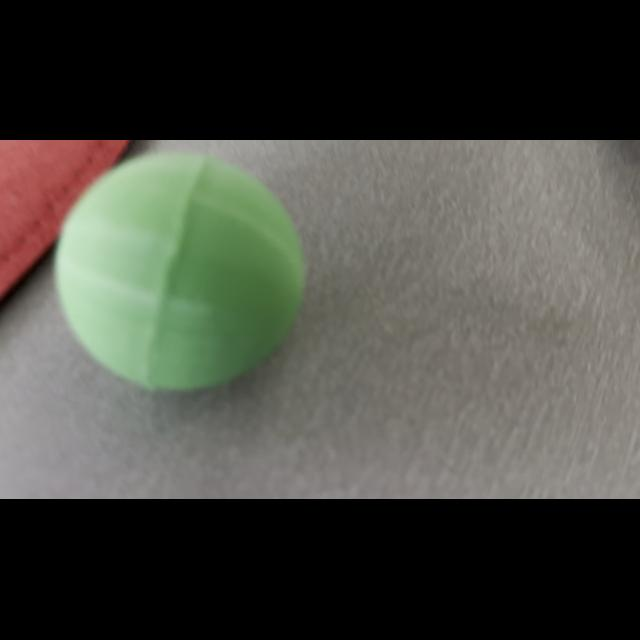objects: (47, 144, 319, 408)
